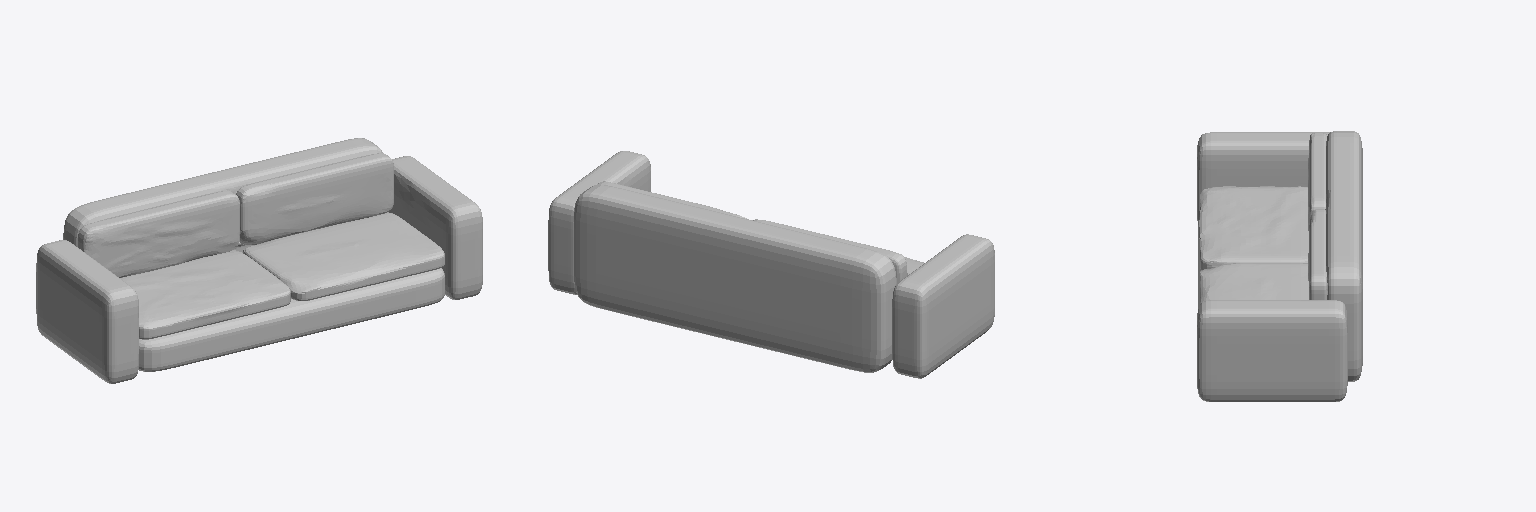
The model's file is Sofa.obj.
3 views of the same model, side by side, from view 1: azimuth 30°, elevation 25°; view 2: azimuth 150°, elevation 25°; view 3: azimuth 270°, elevation 25° (orthographic).
Visible parts, largest first — view 1: Cube.001; view 2: Cube.001; view 3: Cube.001.
Part boxes in pixels (x1,y1,x2,y2): Cube.001: (36,138,482,383); Cube.001: (548,151,994,378); Cube.001: (1197,131,1362,401).
Size of the model in its own units: 609 by 177 by 233.